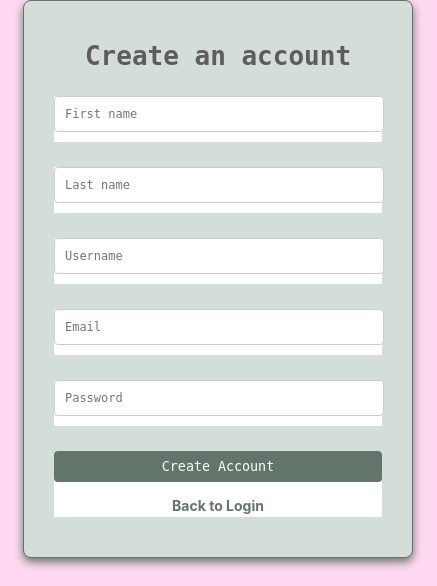
Test case: CreateAccount Component › shows password length validation error
The width and height of the screenshot is (437, 586).
Type "short" into the password field with placeholder "Password" at (219, 398), box [54,380,384,416]
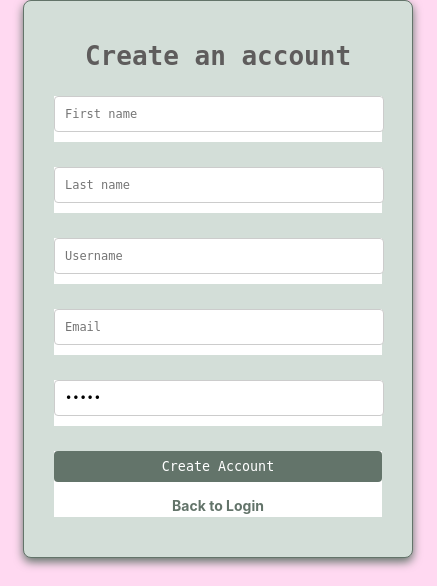
Click the button "Create Account" at (218, 466), box [54,451,382,482]
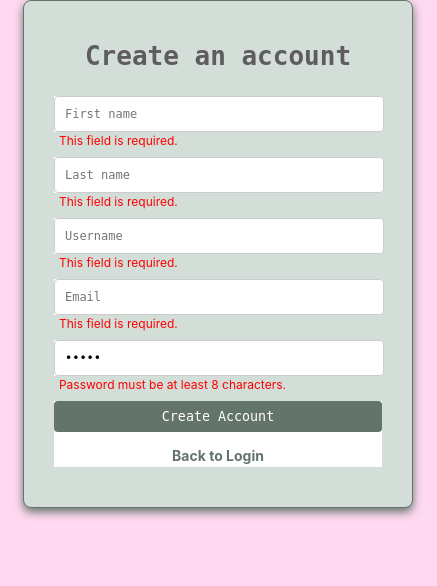
expect the text "Password must be at least 8 characters." is shown: met, box [59,377,286,392]
